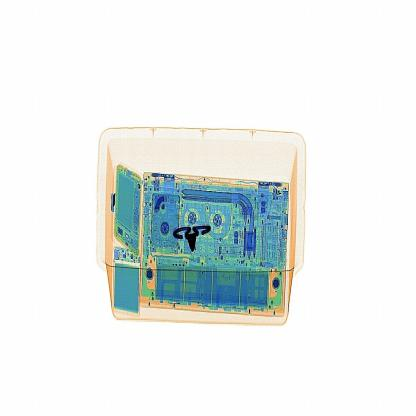gun: (168, 212, 218, 255)
